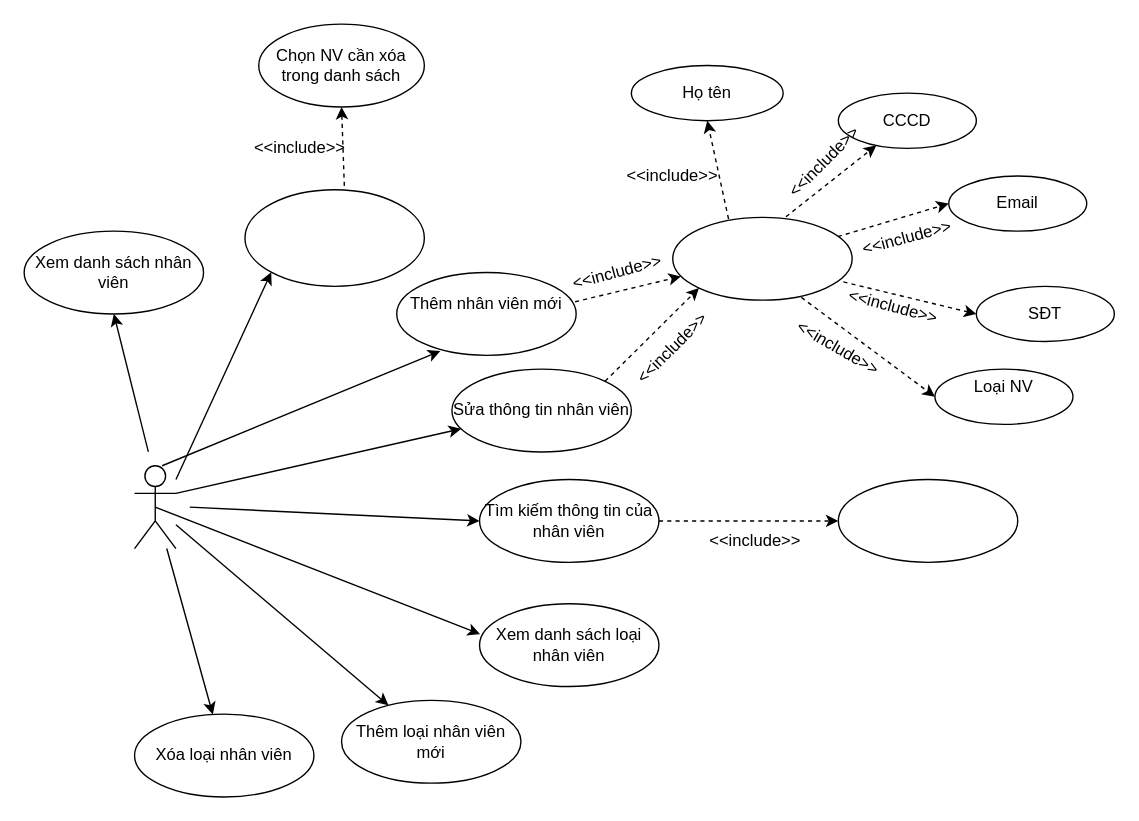
Some shapes in this 1139 by 821 pixel diagram are drawn without their labels. Each missing label, with the centre of its shape:
Admin: point (154, 506)
Nhập tên nhân viên: point (927, 520)
Xóa nhân viên và tài khoản tương ứng (nếu có): point (334, 237)
Điền thông tin: point (761, 258)
